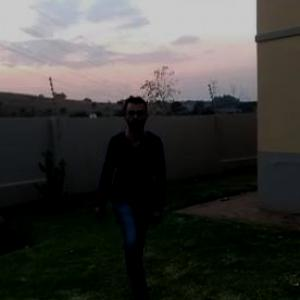follow: (102, 89, 164, 299)
